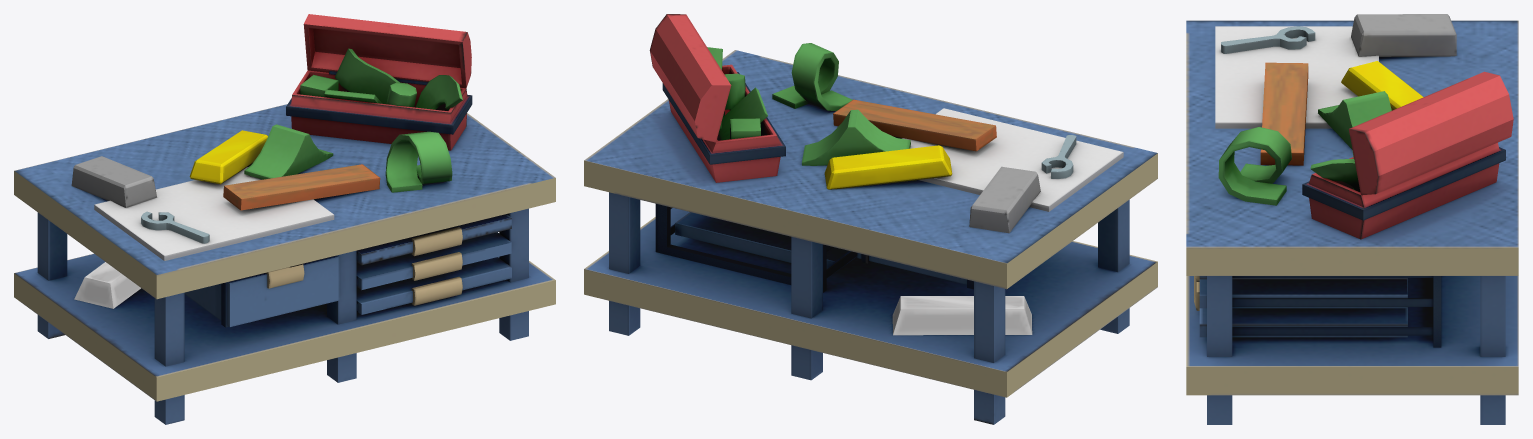
The model's file is crafting_workbench.glb.
3 views of the same model, side by side, from view 1: azimuth 30°, elevation 25°; view 2: azimuth 150°, elevation 25°; view 3: azimuth 270°, elevation 25° (orthographic). The views are drawn at different scales.
Parts seen in each view (by area): view 1: workbench; view 2: workbench; view 3: workbench.
Part boxes in pixels (x1=…): workbench: x1=14, y1=14, x2=555, y2=424; workbench: x1=584, y1=14, x2=1157, y2=424; workbench: x1=1186, y1=14, x2=1518, y2=424.
Size of what is drawn, in the model's own units: 2.58 by 1.56 by 1.6.
Materials: 1 (1 with a texture image).
